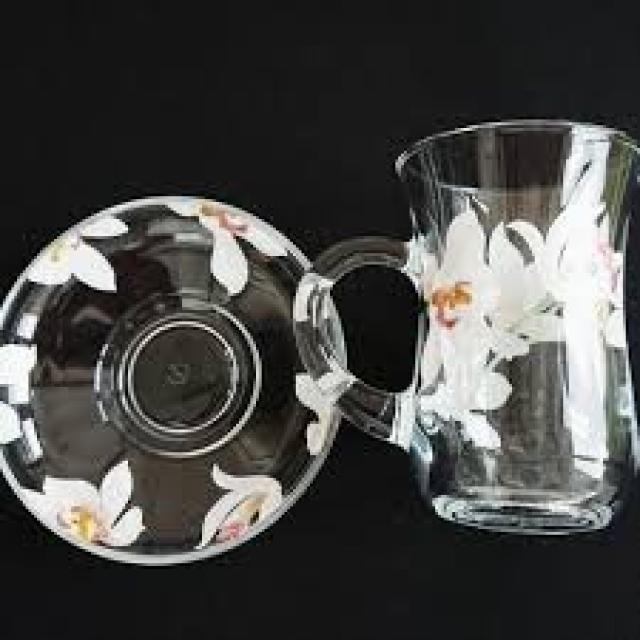Glass: (296, 122, 640, 536), (5, 194, 346, 563)
